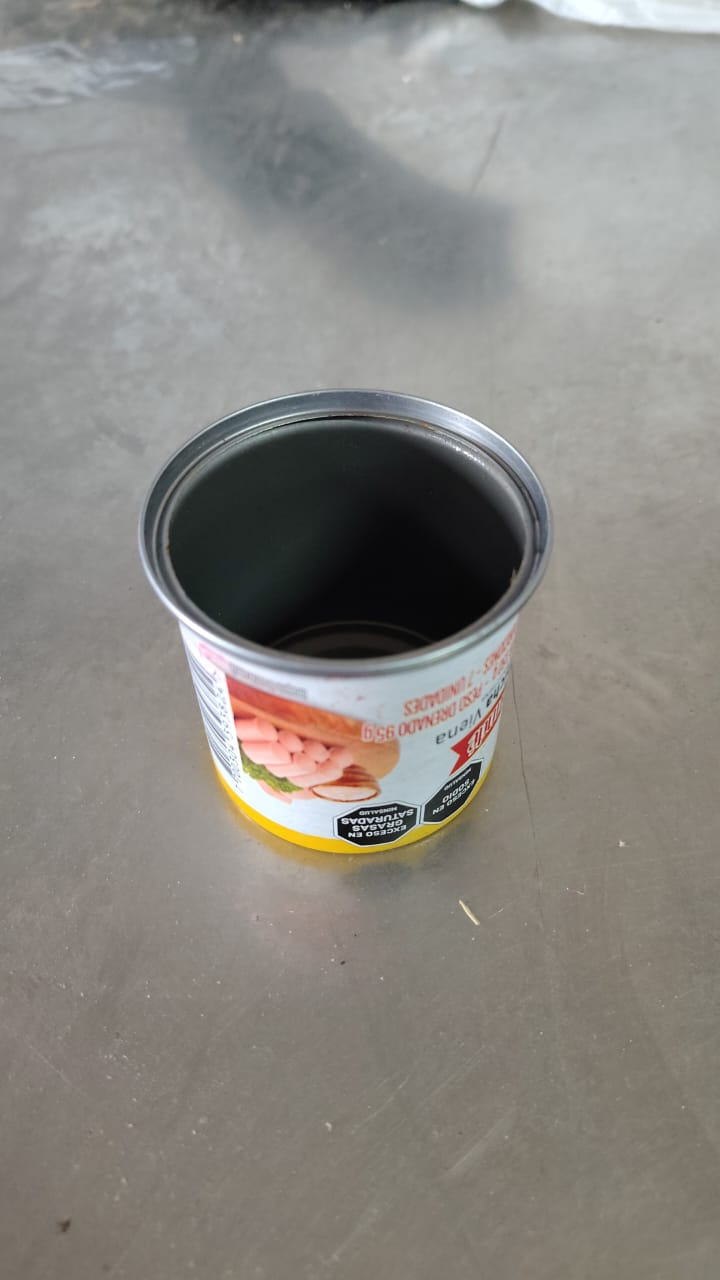Metal: (141, 389, 552, 855)
